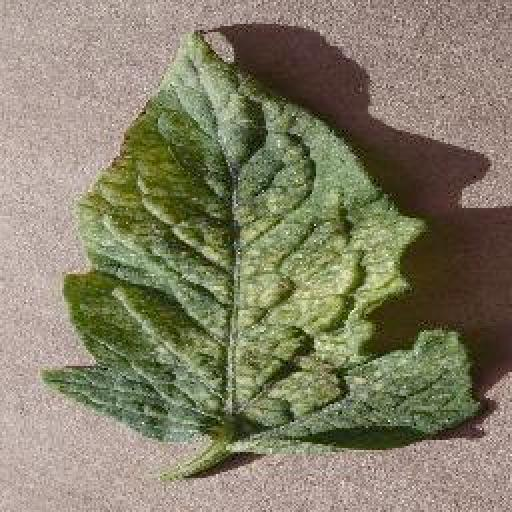disease_tomato: (40, 26, 478, 454)
